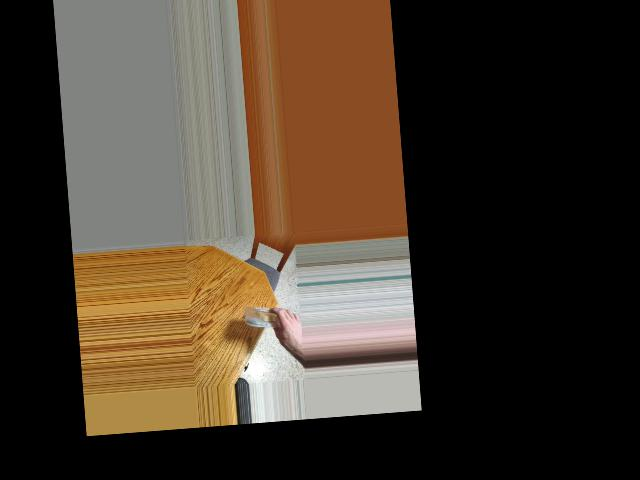cheese: (242, 295, 292, 347)
